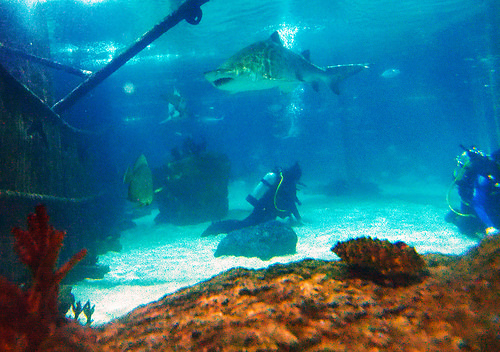shark: (194, 30, 377, 101)
